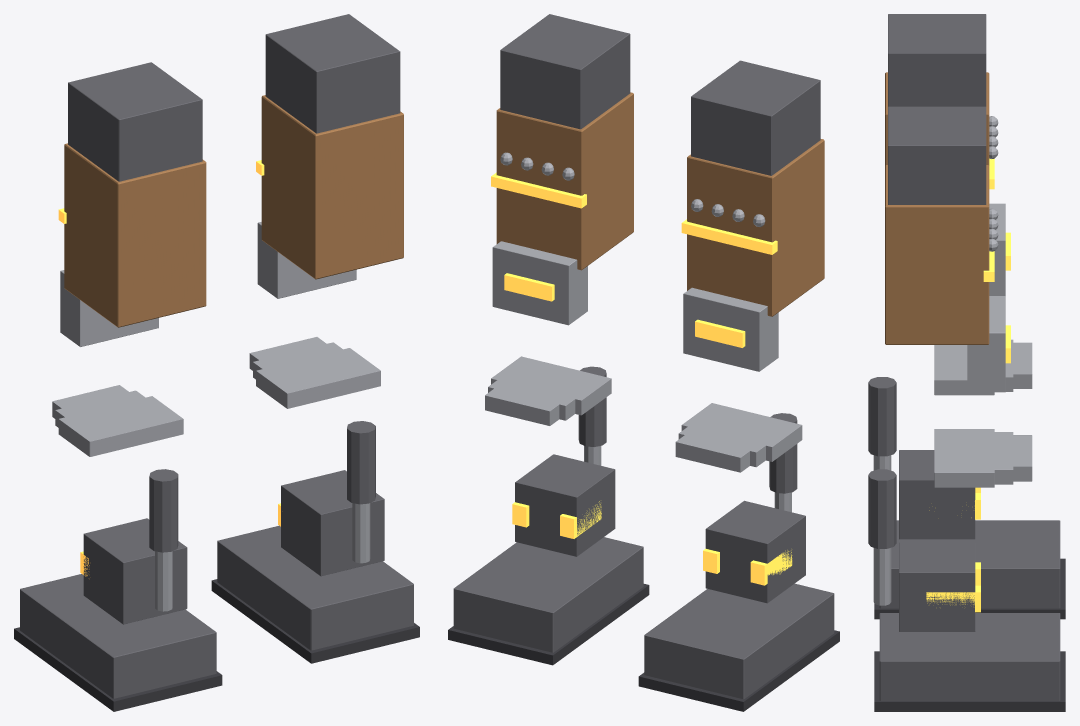
Rendered from legs-bruiser3.glb.
3 views of the same model, side by side, from view 1: azimuth 30°, elevation 25°; view 2: azimuth 150°, elevation 25°; view 3: azimuth 270°, elevation 25° (orthographic). The views are drawn at different scales.
Parts seen in each view (by area): view 1: thigh_r, thigh_l, foot_r, foot_l, hip_l, hip_r, ankle_r, ankle_l, plate0_l, plate0_r, sole_r, sole_l (+10 smaller); view 2: thigh_r, thigh_l, foot_l, foot_r, hip_l, hip_r, ankle_l, ankle_r, knee_l, knee_r, plate0_r, plate0_l (+14 smaller); view 3: thigh_l, foot_l, hip_l, hip_r, foot_r, ankle_l, ankle_r, sole_l, knee_l, plate0_l, sleeve_l, sleeve_r (+9 smaller).
Part boxes in pixels (left/top/right/bottom): thigh_r: left=64, top=143, right=206, bottom=327; thigh_l: left=261, top=95, right=403, bottom=279; foot_r: left=20, top=574, right=216, bottom=698; foot_l: left=217, top=525, right=413, bottom=650; hip_l: left=265, top=14, right=400, bottom=133; hip_r: left=68, top=62, right=202, bottom=181; ankle_r: left=83, top=518, right=187, bottom=624; ankle_l: left=281, top=470, right=384, bottom=576; plate0_l: left=256, top=348, right=380, bottom=408; plate0_r: left=58, top=396, right=183, bottom=456; sole_r: left=14, top=627, right=222, bottom=711; sole_l: left=211, top=579, right=419, bottom=663; thigh_r: left=687, top=139, right=824, bottom=316; thigh_l: left=496, top=92, right=633, bottom=270; foot_l: left=453, top=537, right=643, bottom=652; foot_r: left=644, top=583, right=834, bottom=699; hip_l: left=500, top=14, right=630, bottom=129; hip_r: left=691, top=60, right=820, bottom=175; ankle_l: left=515, top=454, right=615, bottom=556; ankle_r: left=705, top=500, right=805, bottom=603; knee_l: left=492, top=241, right=587, bottom=325; knee_r: left=683, top=287, right=778, bottom=371; plate0_r: left=681, top=403, right=802, bottom=461; plate0_l: left=491, top=356, right=611, bottom=415; thigh_l: left=885, top=165, right=989, bottom=344; foot_l: left=879, top=613, right=1060, bottom=700; hip_l: left=888, top=106, right=986, bottom=204; hip_r: left=888, top=14, right=986, bottom=106; foot_r: left=879, top=520, right=1060, bottom=608; ankle_l: left=899, top=542, right=975, bottom=631; ankle_r: left=899, top=450, right=975, bottom=539; sole_l: left=874, top=651, right=1065, bottom=711; knee_l: left=967, top=296, right=1005, bottom=392; plate0_l: left=934, top=429, right=994, bottom=487; sleeve_l: left=868, top=469, right=896, bottom=548; sleeve_r: left=868, top=377, right=896, bottom=456.
Size of the model in its own units: 0.62 by 1.13 by 0.361.
